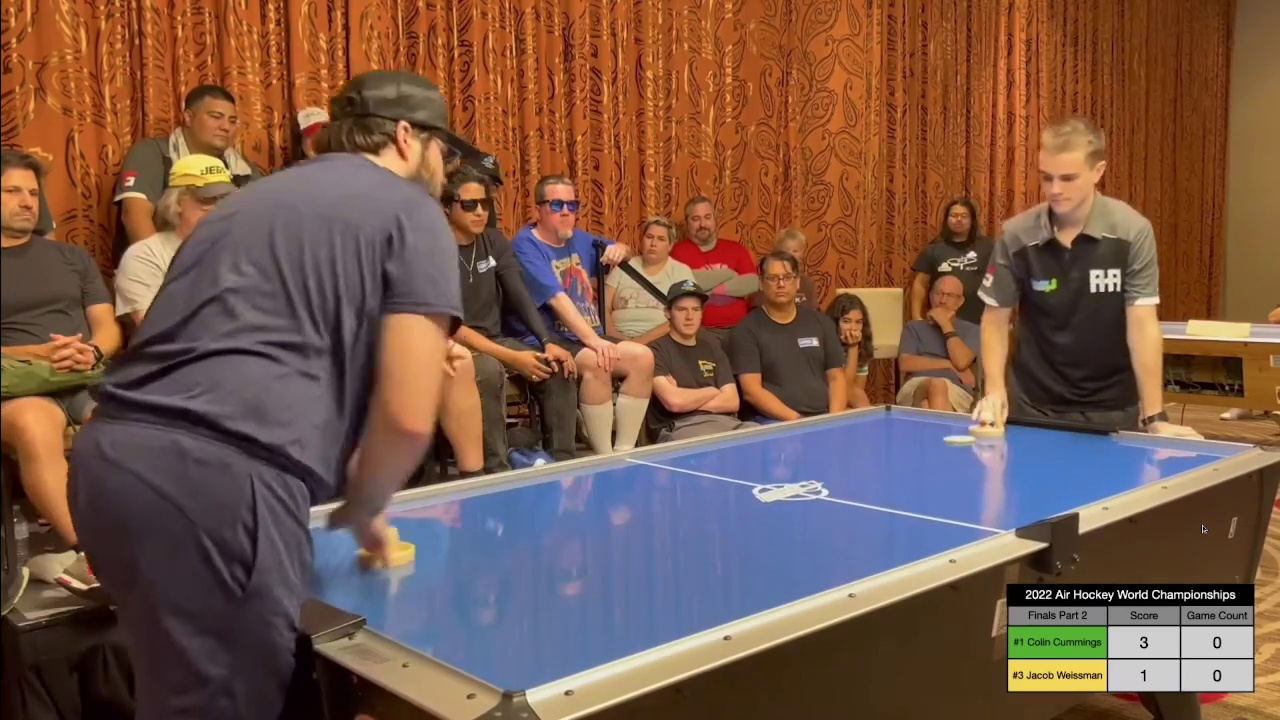player: (354, 526, 414, 567), (972, 411, 1009, 439)
puck: (943, 433, 975, 445)
table: (289, 402, 1274, 691)
